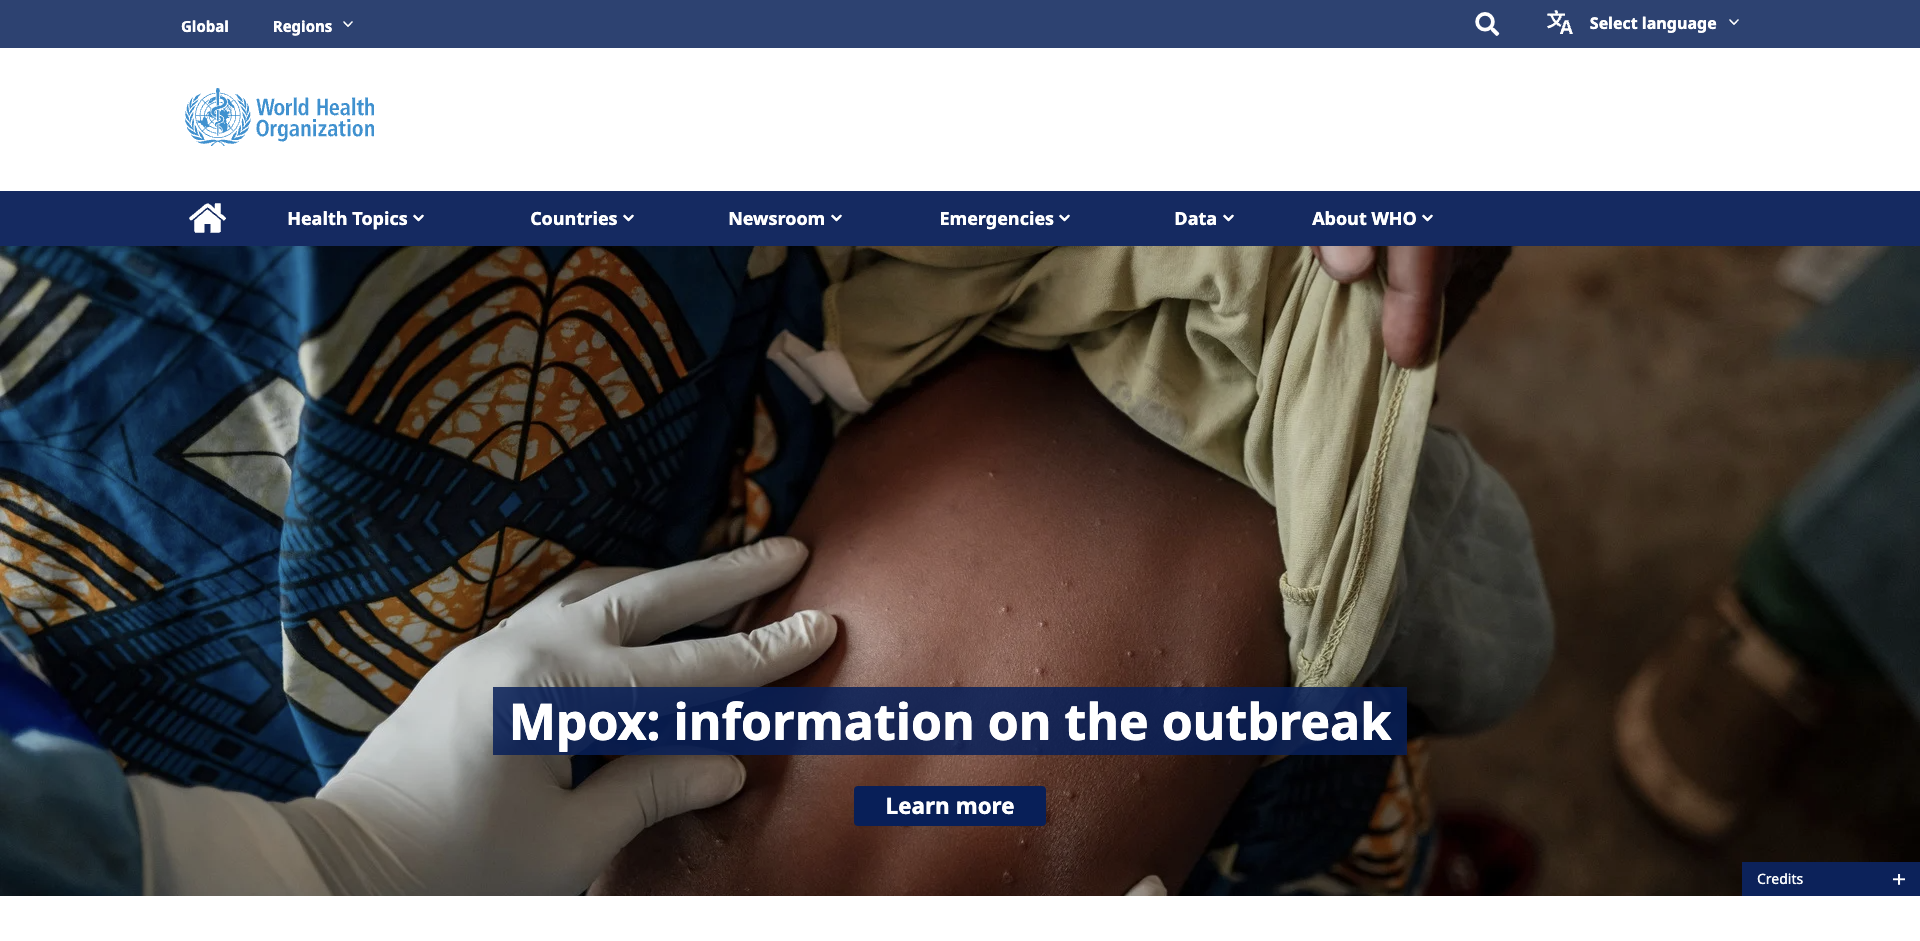button: (853, 785, 1047, 826)
dropdown: (1582, 0, 1741, 44)
input: (1523, 0, 1738, 48)
link: (175, 78, 384, 156), (266, 194, 440, 244), (917, 194, 1086, 244), (1291, 194, 1449, 244), (707, 194, 857, 244), (508, 194, 649, 244), (856, 788, 1044, 823), (251, 0, 376, 48), (1152, 194, 1249, 244), (163, 0, 251, 48), (178, 194, 238, 244)
